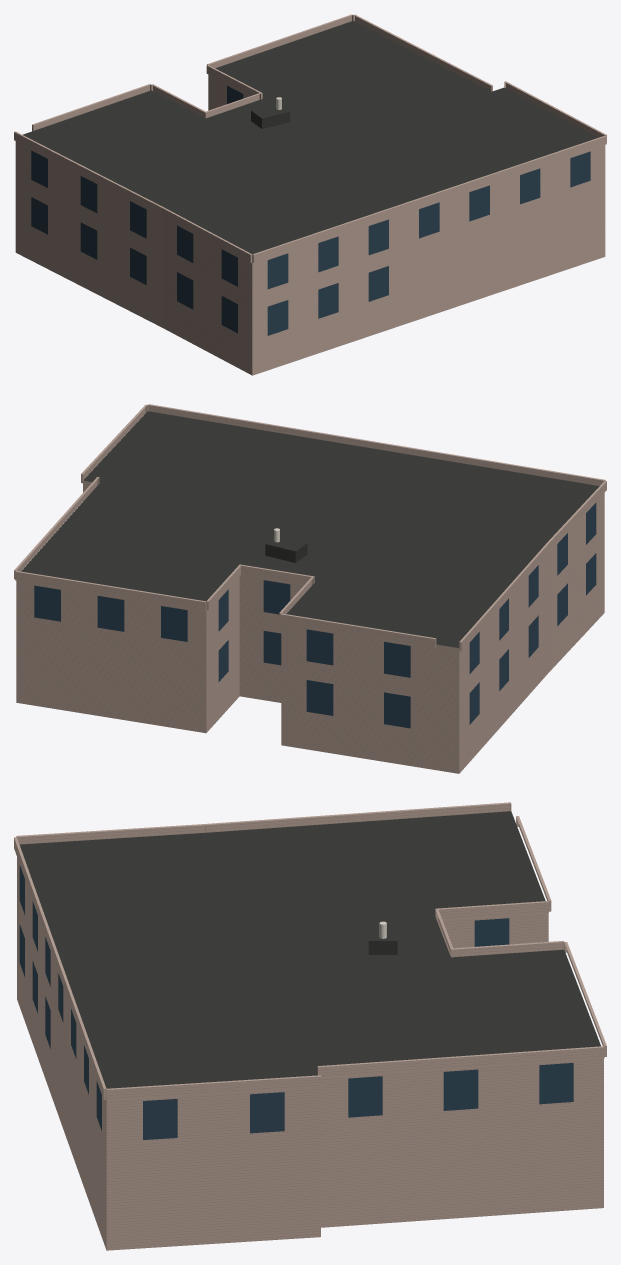
3 views of the same model, one above another, from view 1: azimuth 30°, elevation 25°; view 2: azimuth 150°, elevation 25°; view 3: azimuth 270°, elevation 25° (orthographic). The views are drawn at different scales.
Parts seen in each view (by area): view 1: Footprint 0 / surface 1, Footprint 0 / surface 2, Inset glazing, Facade bay volumes; view 2: Footprint 0 / surface 1, Footprint 0 / surface 2, Facade bay volumes, Inset glazing; view 3: Footprint 0 / surface 1, Footprint 0 / surface 2, Facade bay volumes, Inset glazing.
Part boxes in pixels (bbox=[...]): Footprint 0 / surface 1: bbox=[22, 20, 598, 254]; Footprint 0 / surface 2: bbox=[15, 74, 605, 375]; Inset glazing: bbox=[31, 86, 590, 335]; Facade bay volumes: bbox=[14, 14, 606, 262]; Footprint 0 / surface 1: bbox=[21, 411, 599, 647]; Footprint 0 / surface 2: bbox=[16, 480, 604, 773]; Facade bay volumes: bbox=[14, 404, 606, 651]; Inset glazing: bbox=[34, 502, 596, 728]; Footprint 0 / surface 1: bbox=[20, 811, 600, 1088]; Footprint 0 / surface 2: bbox=[17, 857, 603, 1250]; Facade bay volumes: bbox=[14, 802, 606, 1100]; Inset glazing: bbox=[19, 865, 573, 1139].
Bounding box in the file's own units: 28.24 × 8.36 × 24.6.
